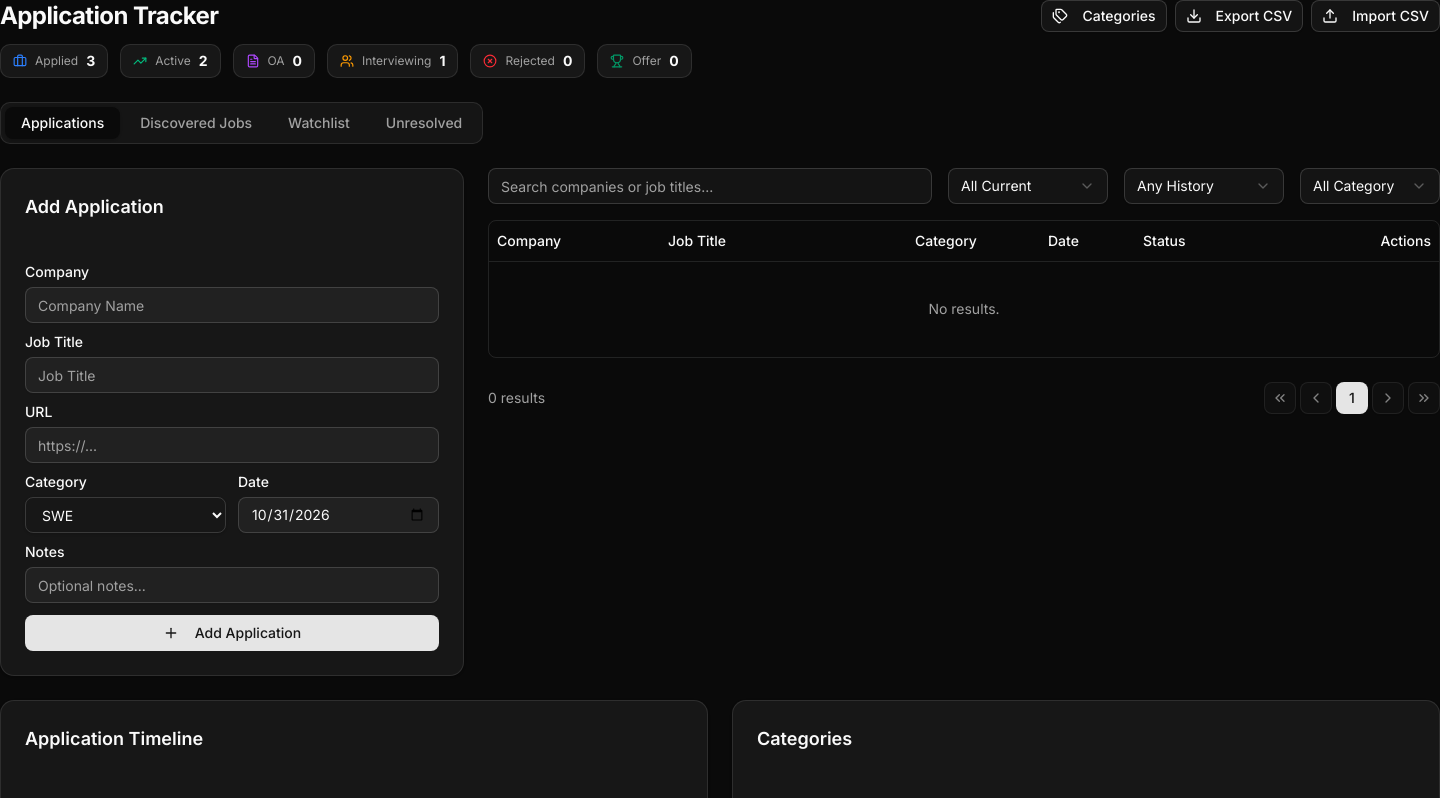
Scenario: switching to the Watchlist tab shows the watchlist add form
Click the button "Watchlist": click(319, 123) [272, 107, 366, 139]
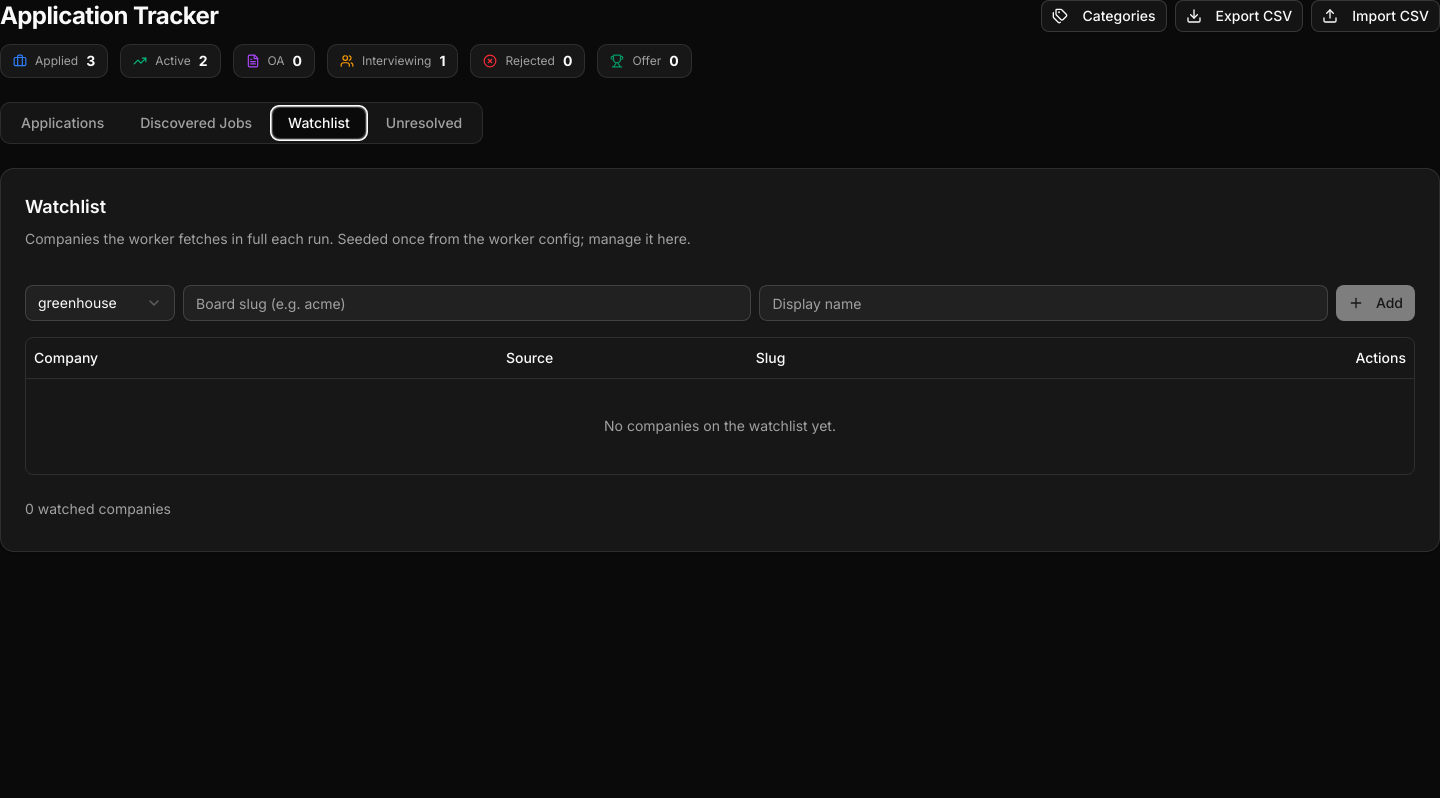
Check: the button "Add" is shown, box [1336, 285, 1415, 321]
Check: the field with placeholder "Board slug (e.g. acme)" is shown, box [183, 285, 751, 321]
